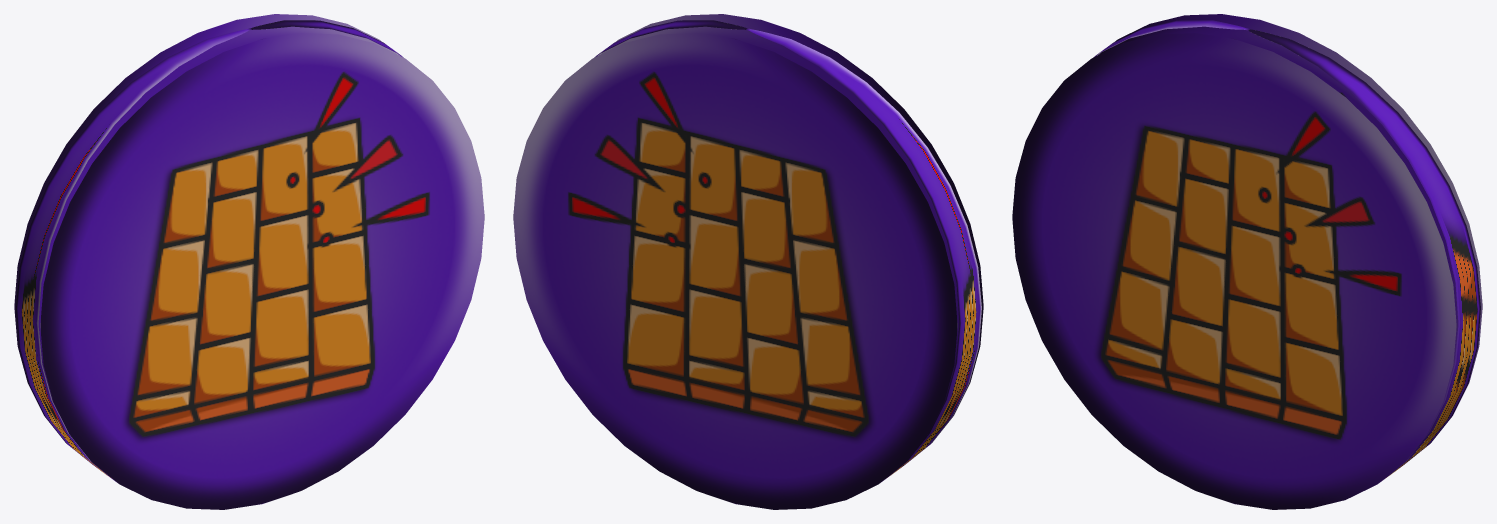
File: wall_icon.FBX
3 views of the same model, side by side, from view 1: azimuth 30°, elevation 25°; view 2: azimuth 150°, elevation 25°; view 3: azimuth 330°, elevation 25° (orthographic).
Parts seen in each view (by area): view 1: Cylinder001; view 2: Cylinder001; view 3: Cylinder001.
Boxes of the visible parts, x1,y1,x2,y2 form: Cylinder001: (14,14,484,509); Cylinder001: (513,14,983,509); Cylinder001: (1012,14,1482,509).
Size of the model in its own units: 975 by 975 by 98.92.
1 material, 1 textured.
